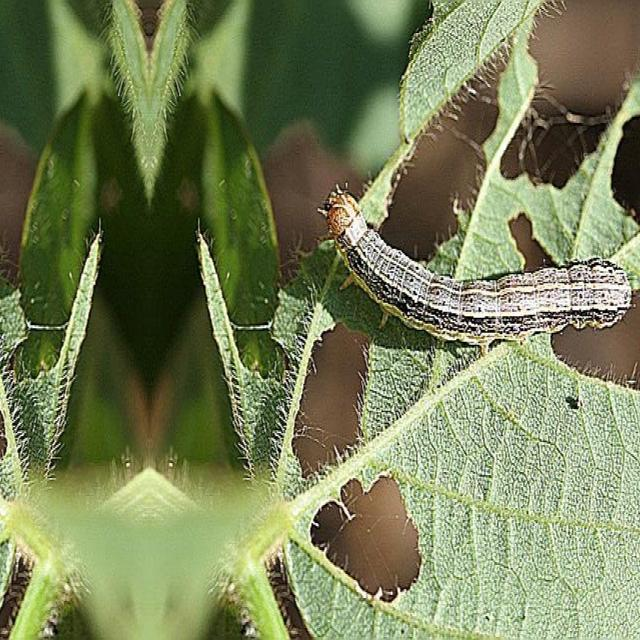Armyworm: (291, 101, 640, 406)
